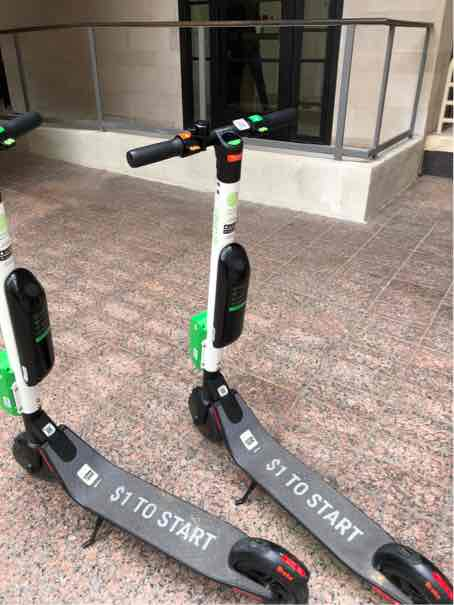scooter: (122, 103, 453, 605)
